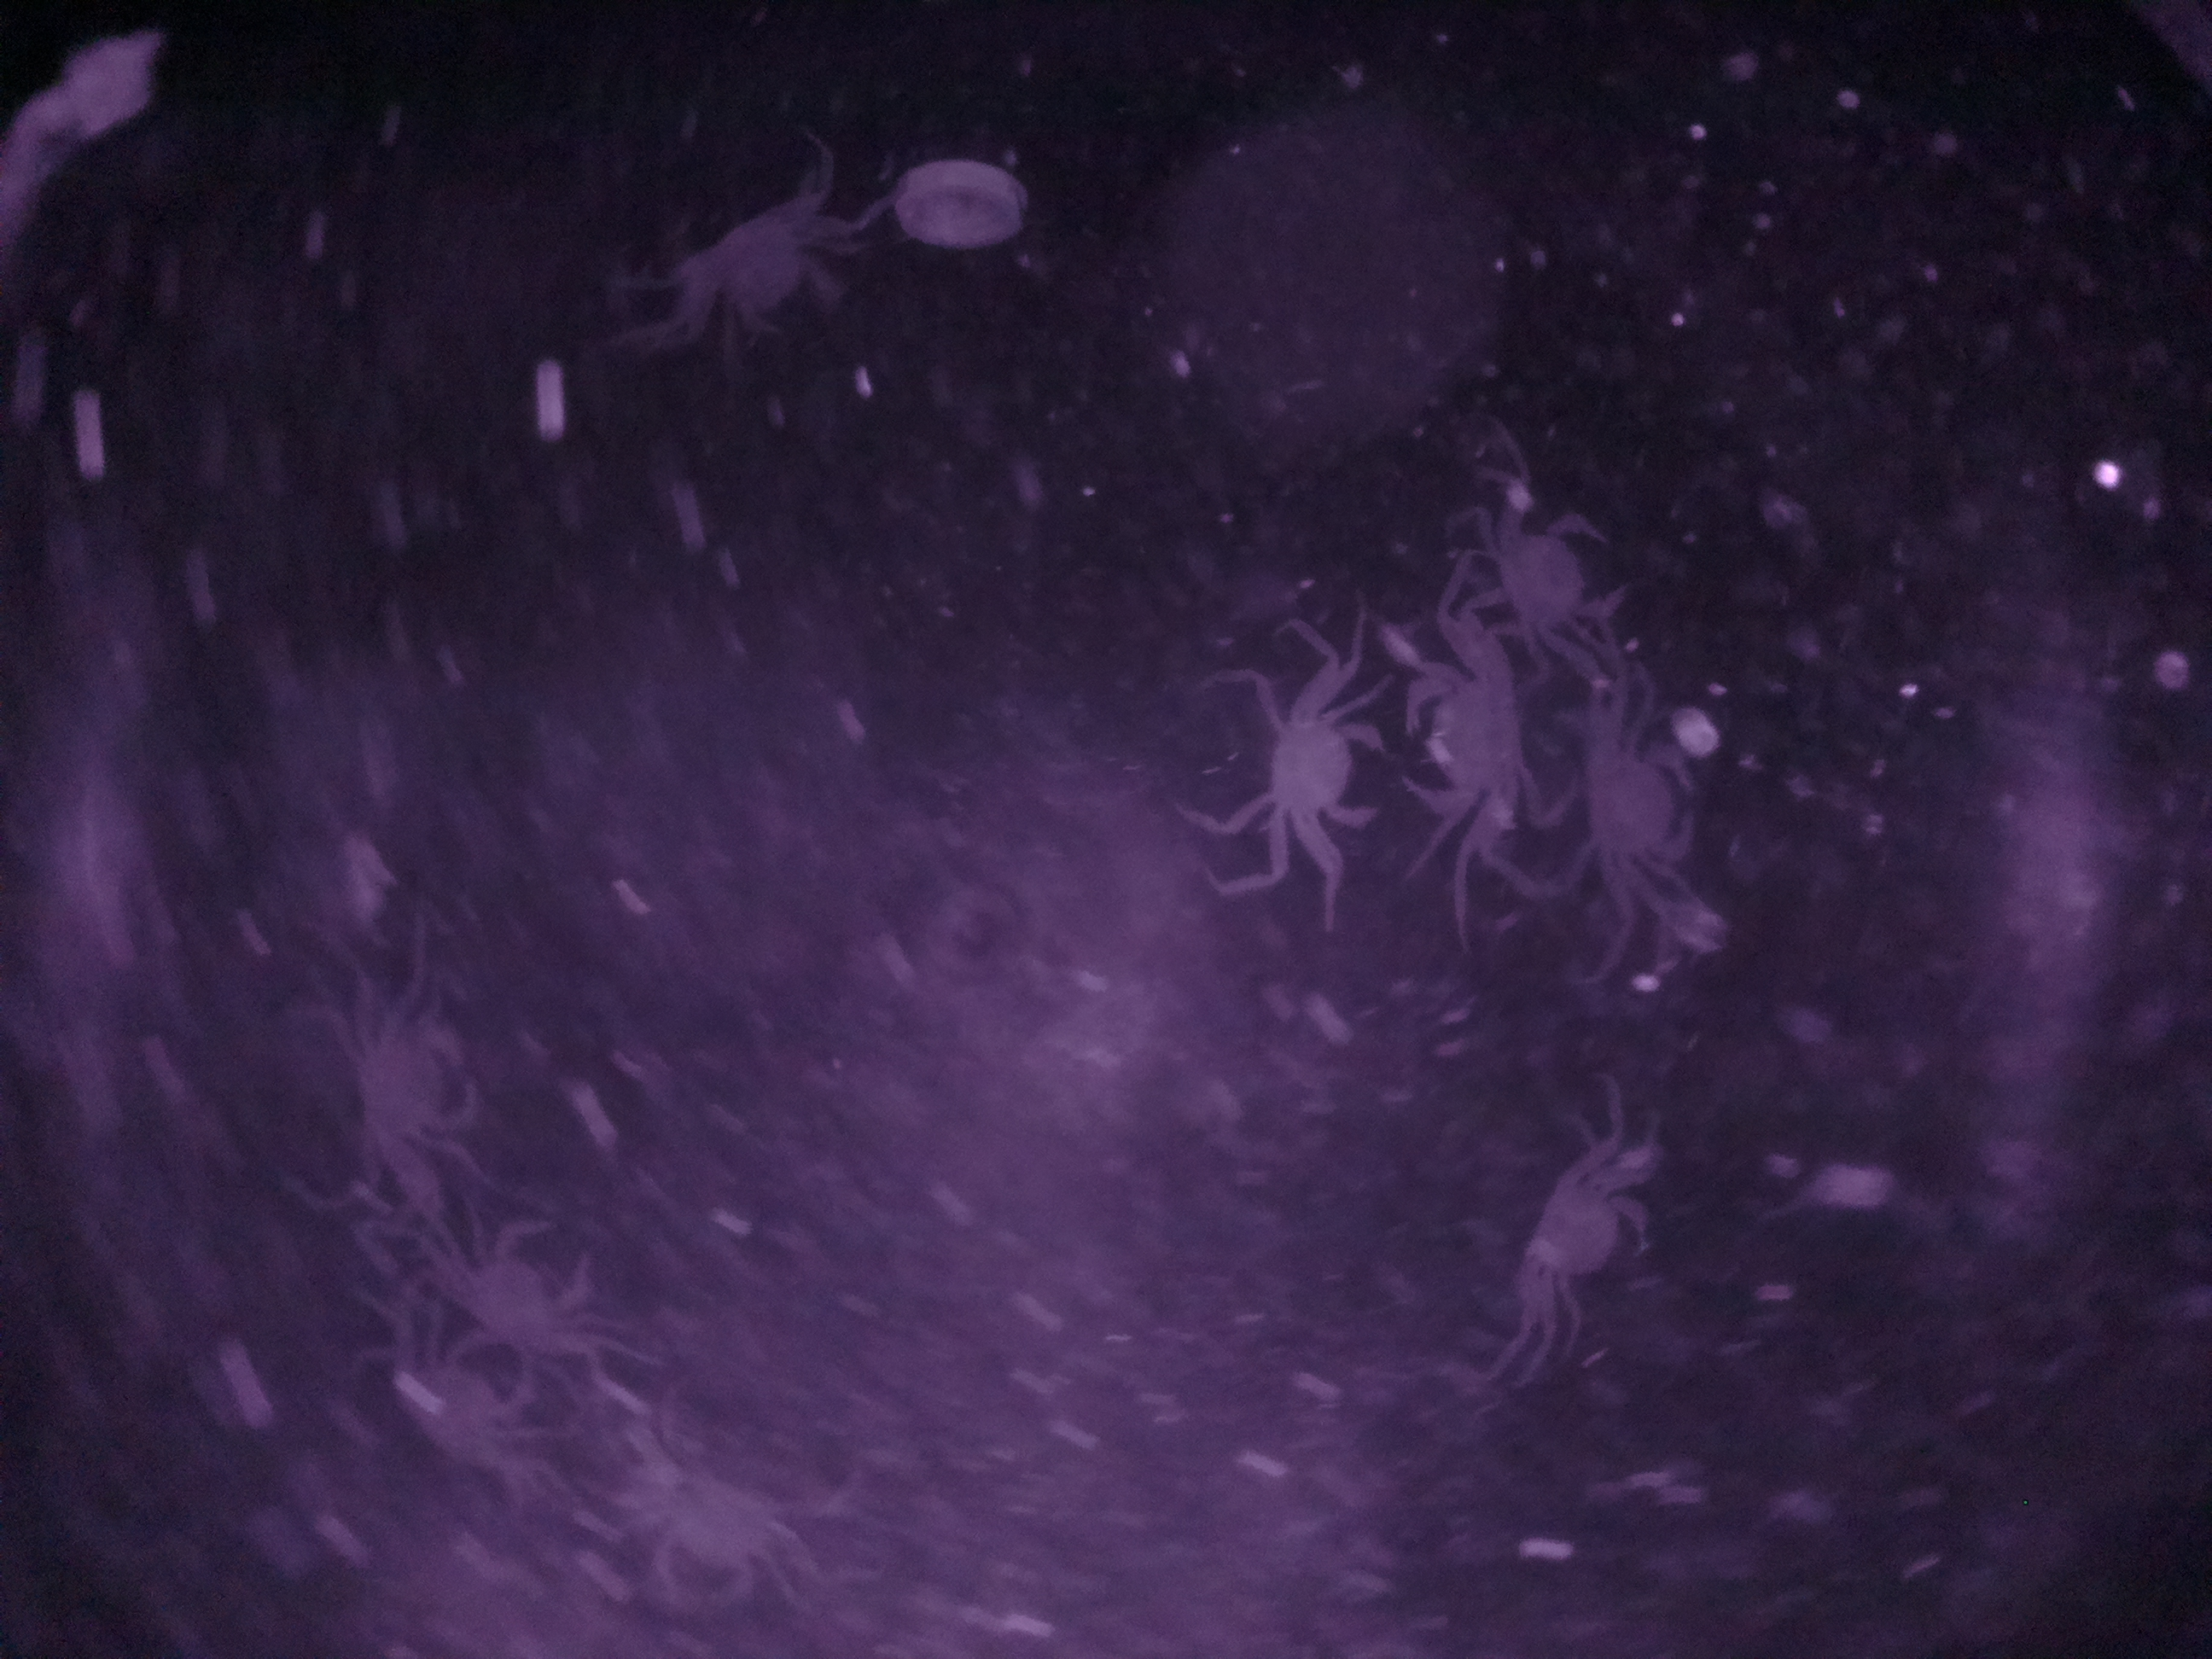Crab: (1231, 662, 1413, 880), (310, 974, 503, 1173), (1458, 474, 1635, 655), (1397, 640, 1550, 838), (1580, 706, 1709, 906)
